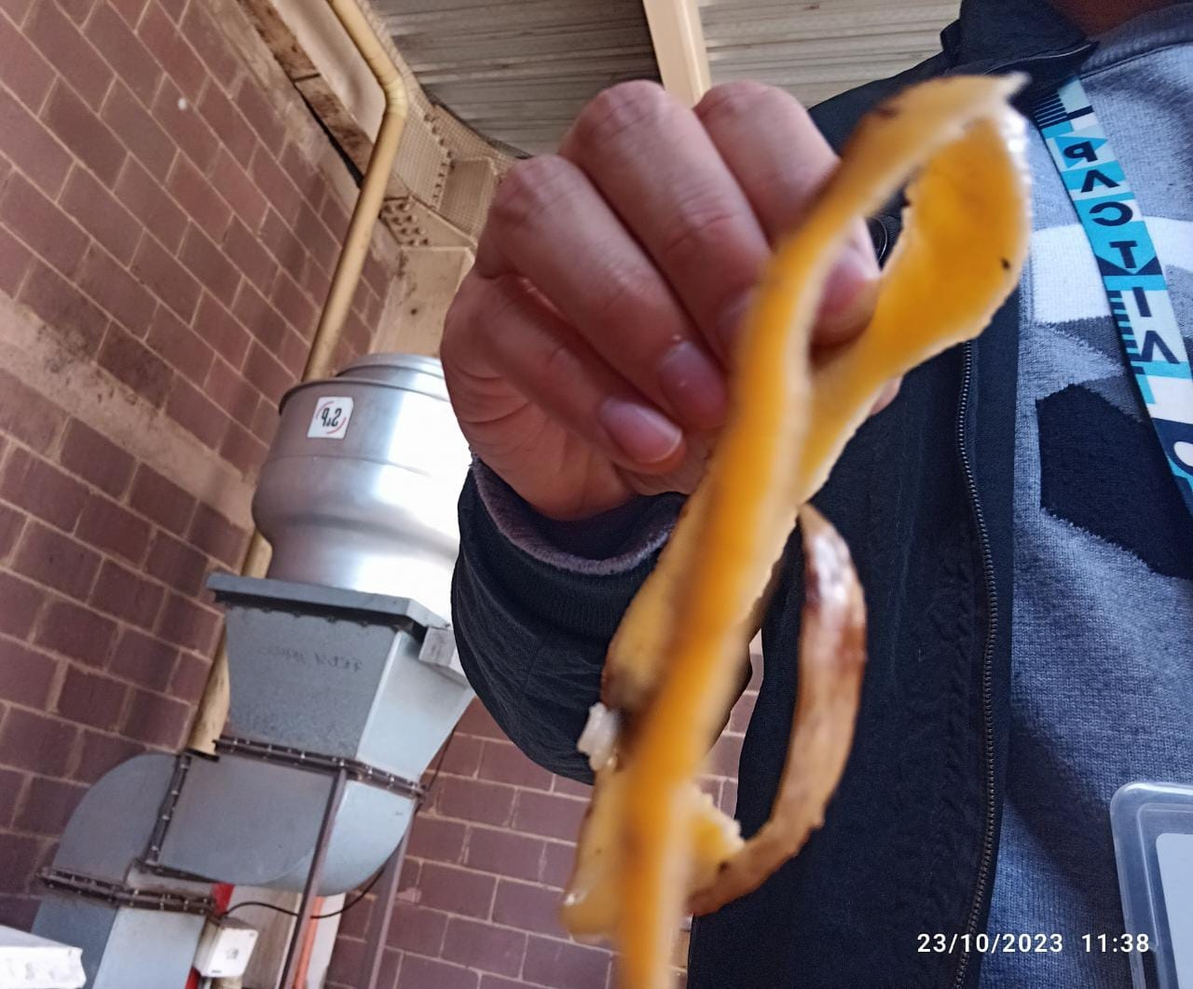Organico: (566, 69, 1017, 989)
